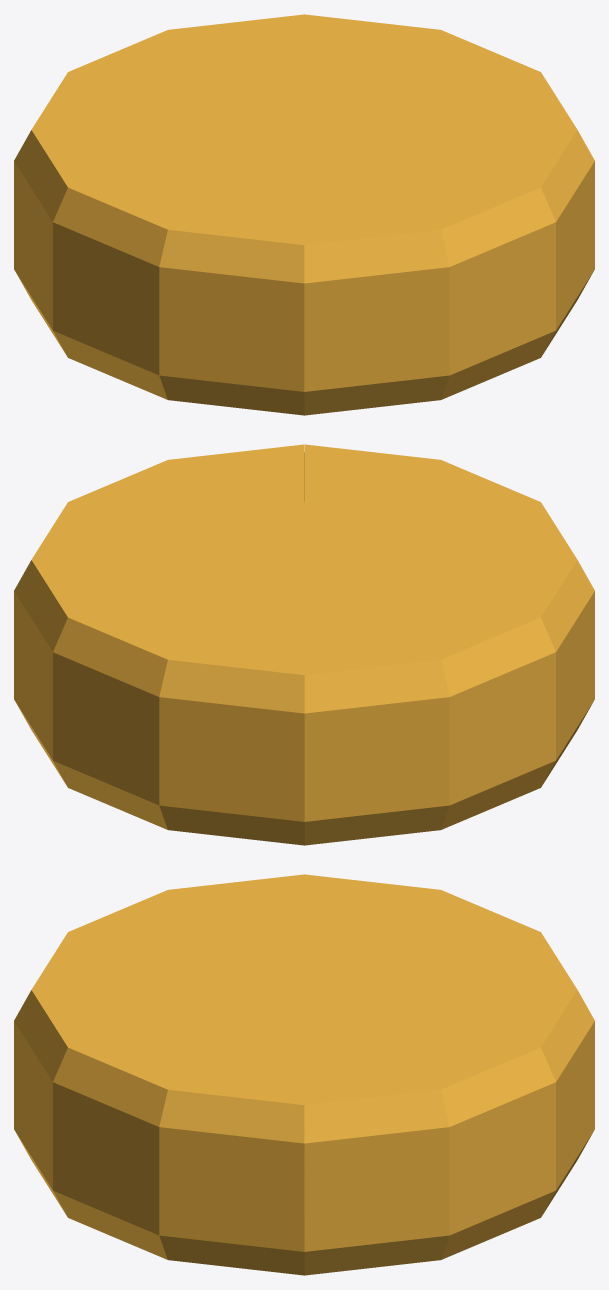
File: cheese.obj
3 views of the same model, one above another, from view 1: azimuth 30°, elevation 25°; view 2: azimuth 150°, elevation 25°; view 3: azimuth 270°, elevation 25° (orthographic).
Visible parts, largest first — view 1: wedge; view 2: wedge; view 3: wedge.
Boxes of the visible parts, x1,y1,x2,y2 form: wedge: (14,14,594,415); wedge: (14,444,594,845); wedge: (14,874,594,1275).
Size of the model in its own units: 0.68 by 0.22 by 0.68.
